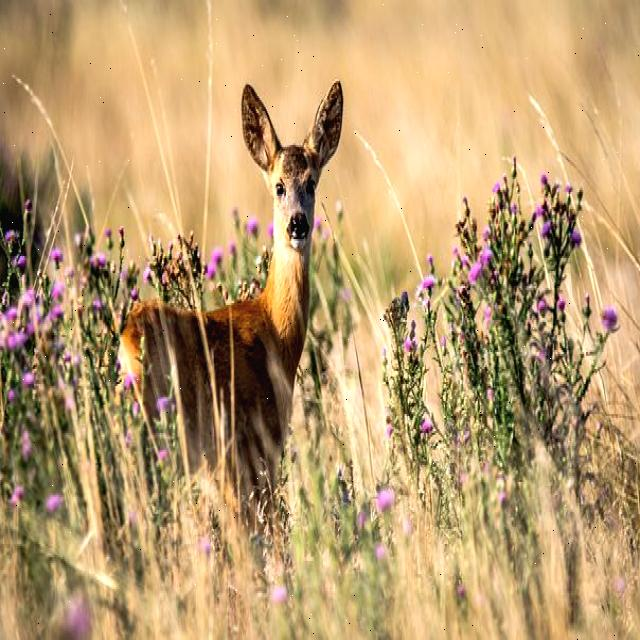deer: (230, 62, 352, 337)
